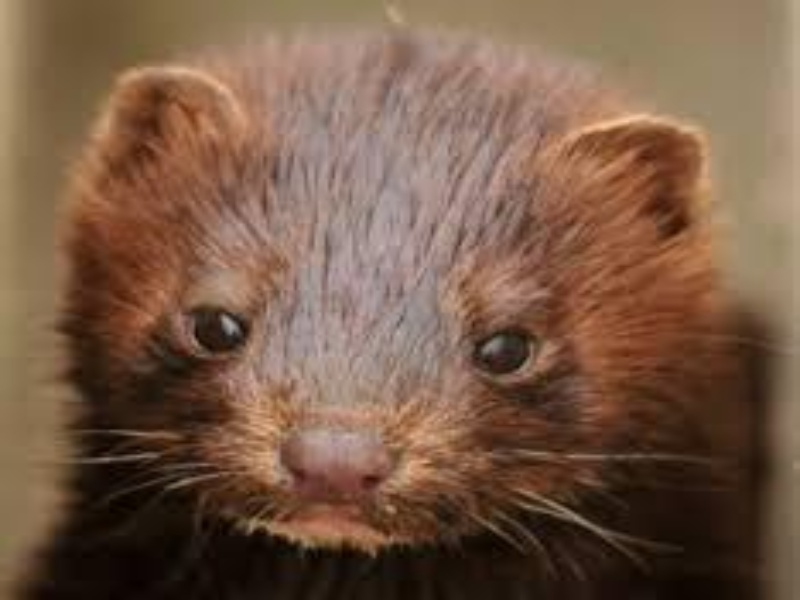minkish: (40, 22, 781, 600)
